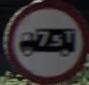Heavy Vehicles: (7, 5, 79, 71)
